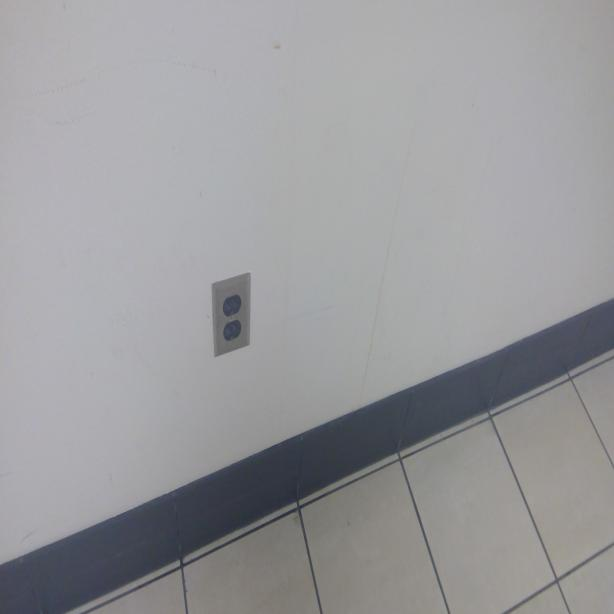typeb: (223, 321, 244, 343), (223, 294, 241, 316)
